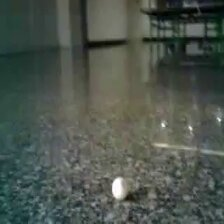w: (111, 176, 130, 199)
